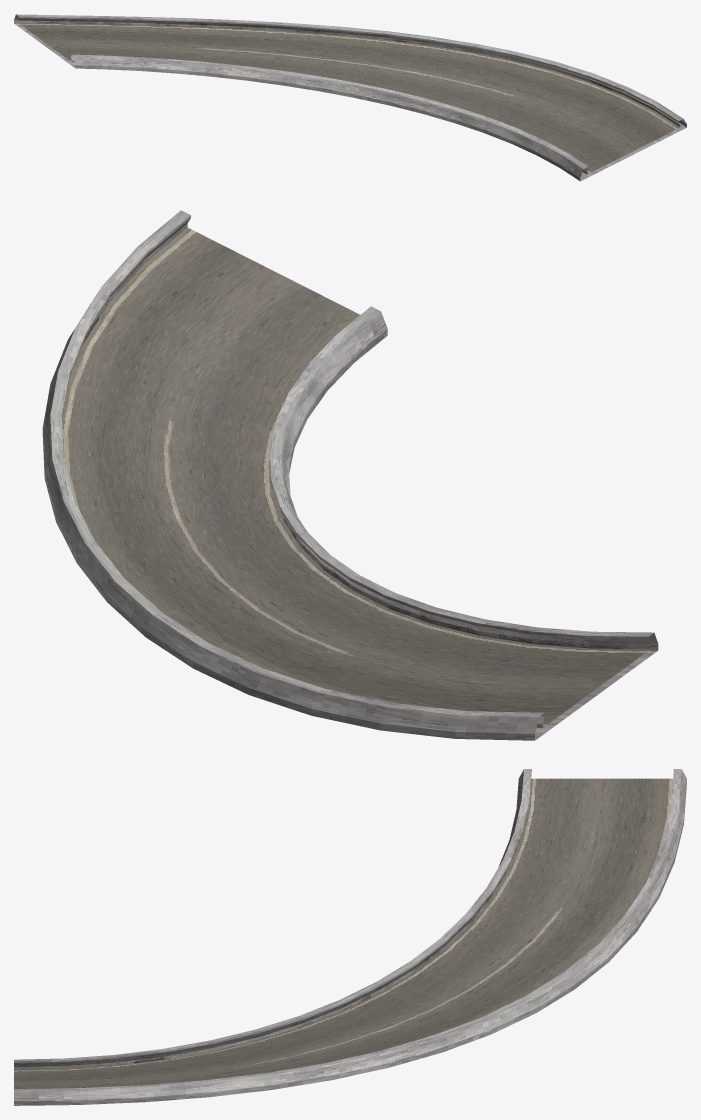
Rendered from road-Turn-HalfBankedLeft-BiSlopeUp-Up2-Left-Size4.glb.
3 views of the same model, one above another, from view 1: azimuth 30°, elevation 25°; view 2: azimuth 150°, elevation 25°; view 3: azimuth 270°, elevation 25° (orthographic). The views are drawn at different scales.
Parts seen in each view (by area): view 1: road-Turn-HalfBankedLeft-BiSlopeUp-Up2-Left-Size4; view 2: road-Turn-HalfBankedLeft-BiSlopeUp-Up2-Left-Size4; view 3: road-Turn-HalfBankedLeft-BiSlopeUp-Up2-Left-Size4.
Boxes of the visible parts, left/top/right/bottom form: road-Turn-HalfBankedLeft-BiSlopeUp-Up2-Left-Size4: left=14, top=14, right=686, bottom=181; road-Turn-HalfBankedLeft-BiSlopeUp-Up2-Left-Size4: left=42, top=210, right=658, bottom=740; road-Turn-HalfBankedLeft-BiSlopeUp-Up2-Left-Size4: left=14, top=769, right=686, bottom=1105.
Bounding box in the file's own units: 4 × 0.5937 × 4.
Materials: 2 (2 with a texture image).
